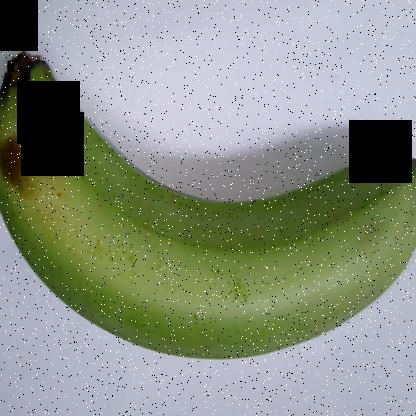freshunripe: (1, 39, 415, 386)
